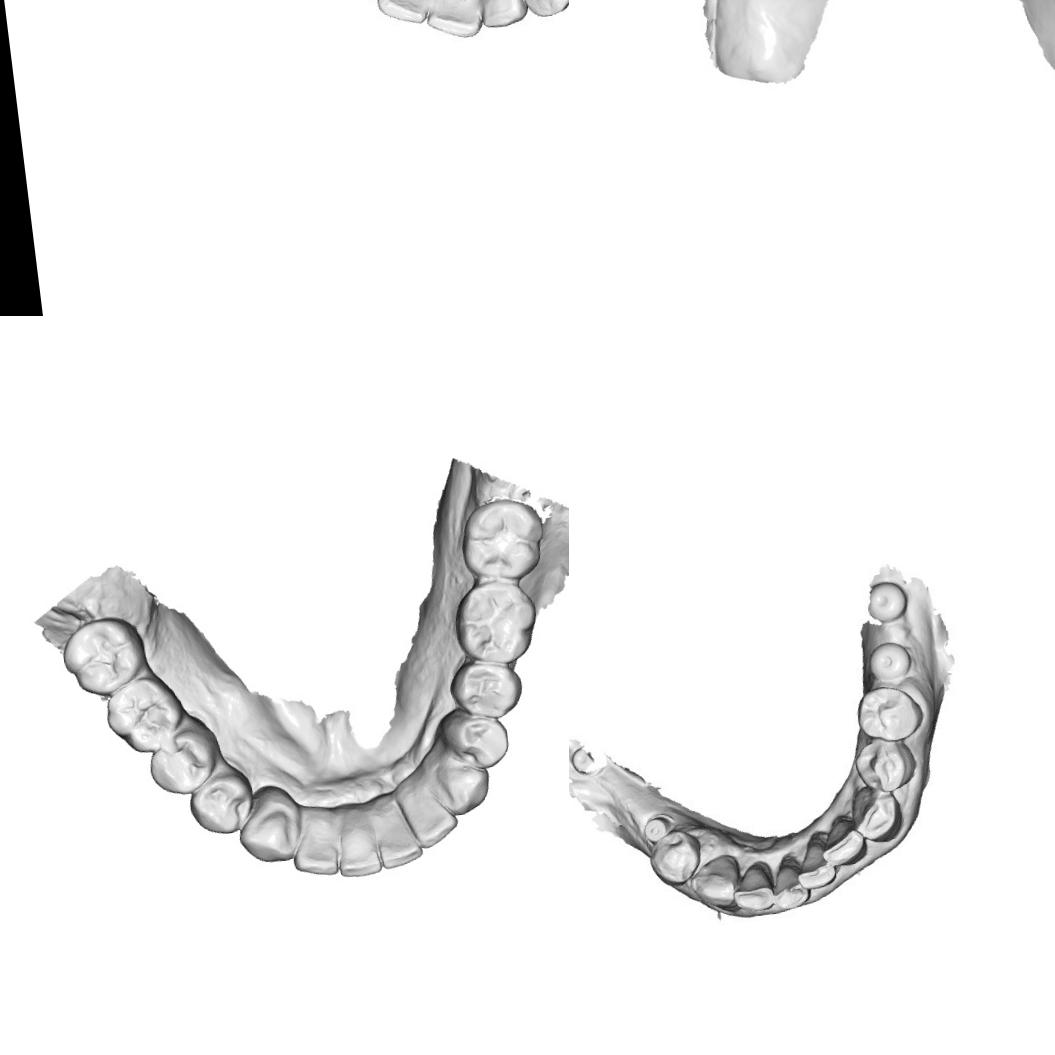canine: (234, 792, 306, 870), (428, 753, 494, 822), (687, 850, 743, 914), (850, 783, 906, 844), (515, 0, 569, 24)
implant: (864, 580, 914, 626), (867, 639, 911, 681), (638, 811, 672, 846)
incisor: (331, 812, 385, 880), (287, 818, 344, 882), (409, 787, 461, 851), (372, 812, 425, 874), (733, 863, 779, 920), (420, 0, 486, 39), (821, 814, 871, 864), (796, 834, 836, 888), (768, 856, 808, 910), (368, 0, 438, 27), (480, 0, 528, 30)
molar: (454, 493, 552, 584), (57, 610, 152, 702), (450, 574, 541, 670), (100, 671, 188, 761)
premolar: (444, 654, 526, 725), (436, 704, 514, 775), (145, 726, 220, 799), (187, 768, 258, 840), (851, 681, 929, 743), (850, 735, 922, 797), (647, 829, 706, 889)
